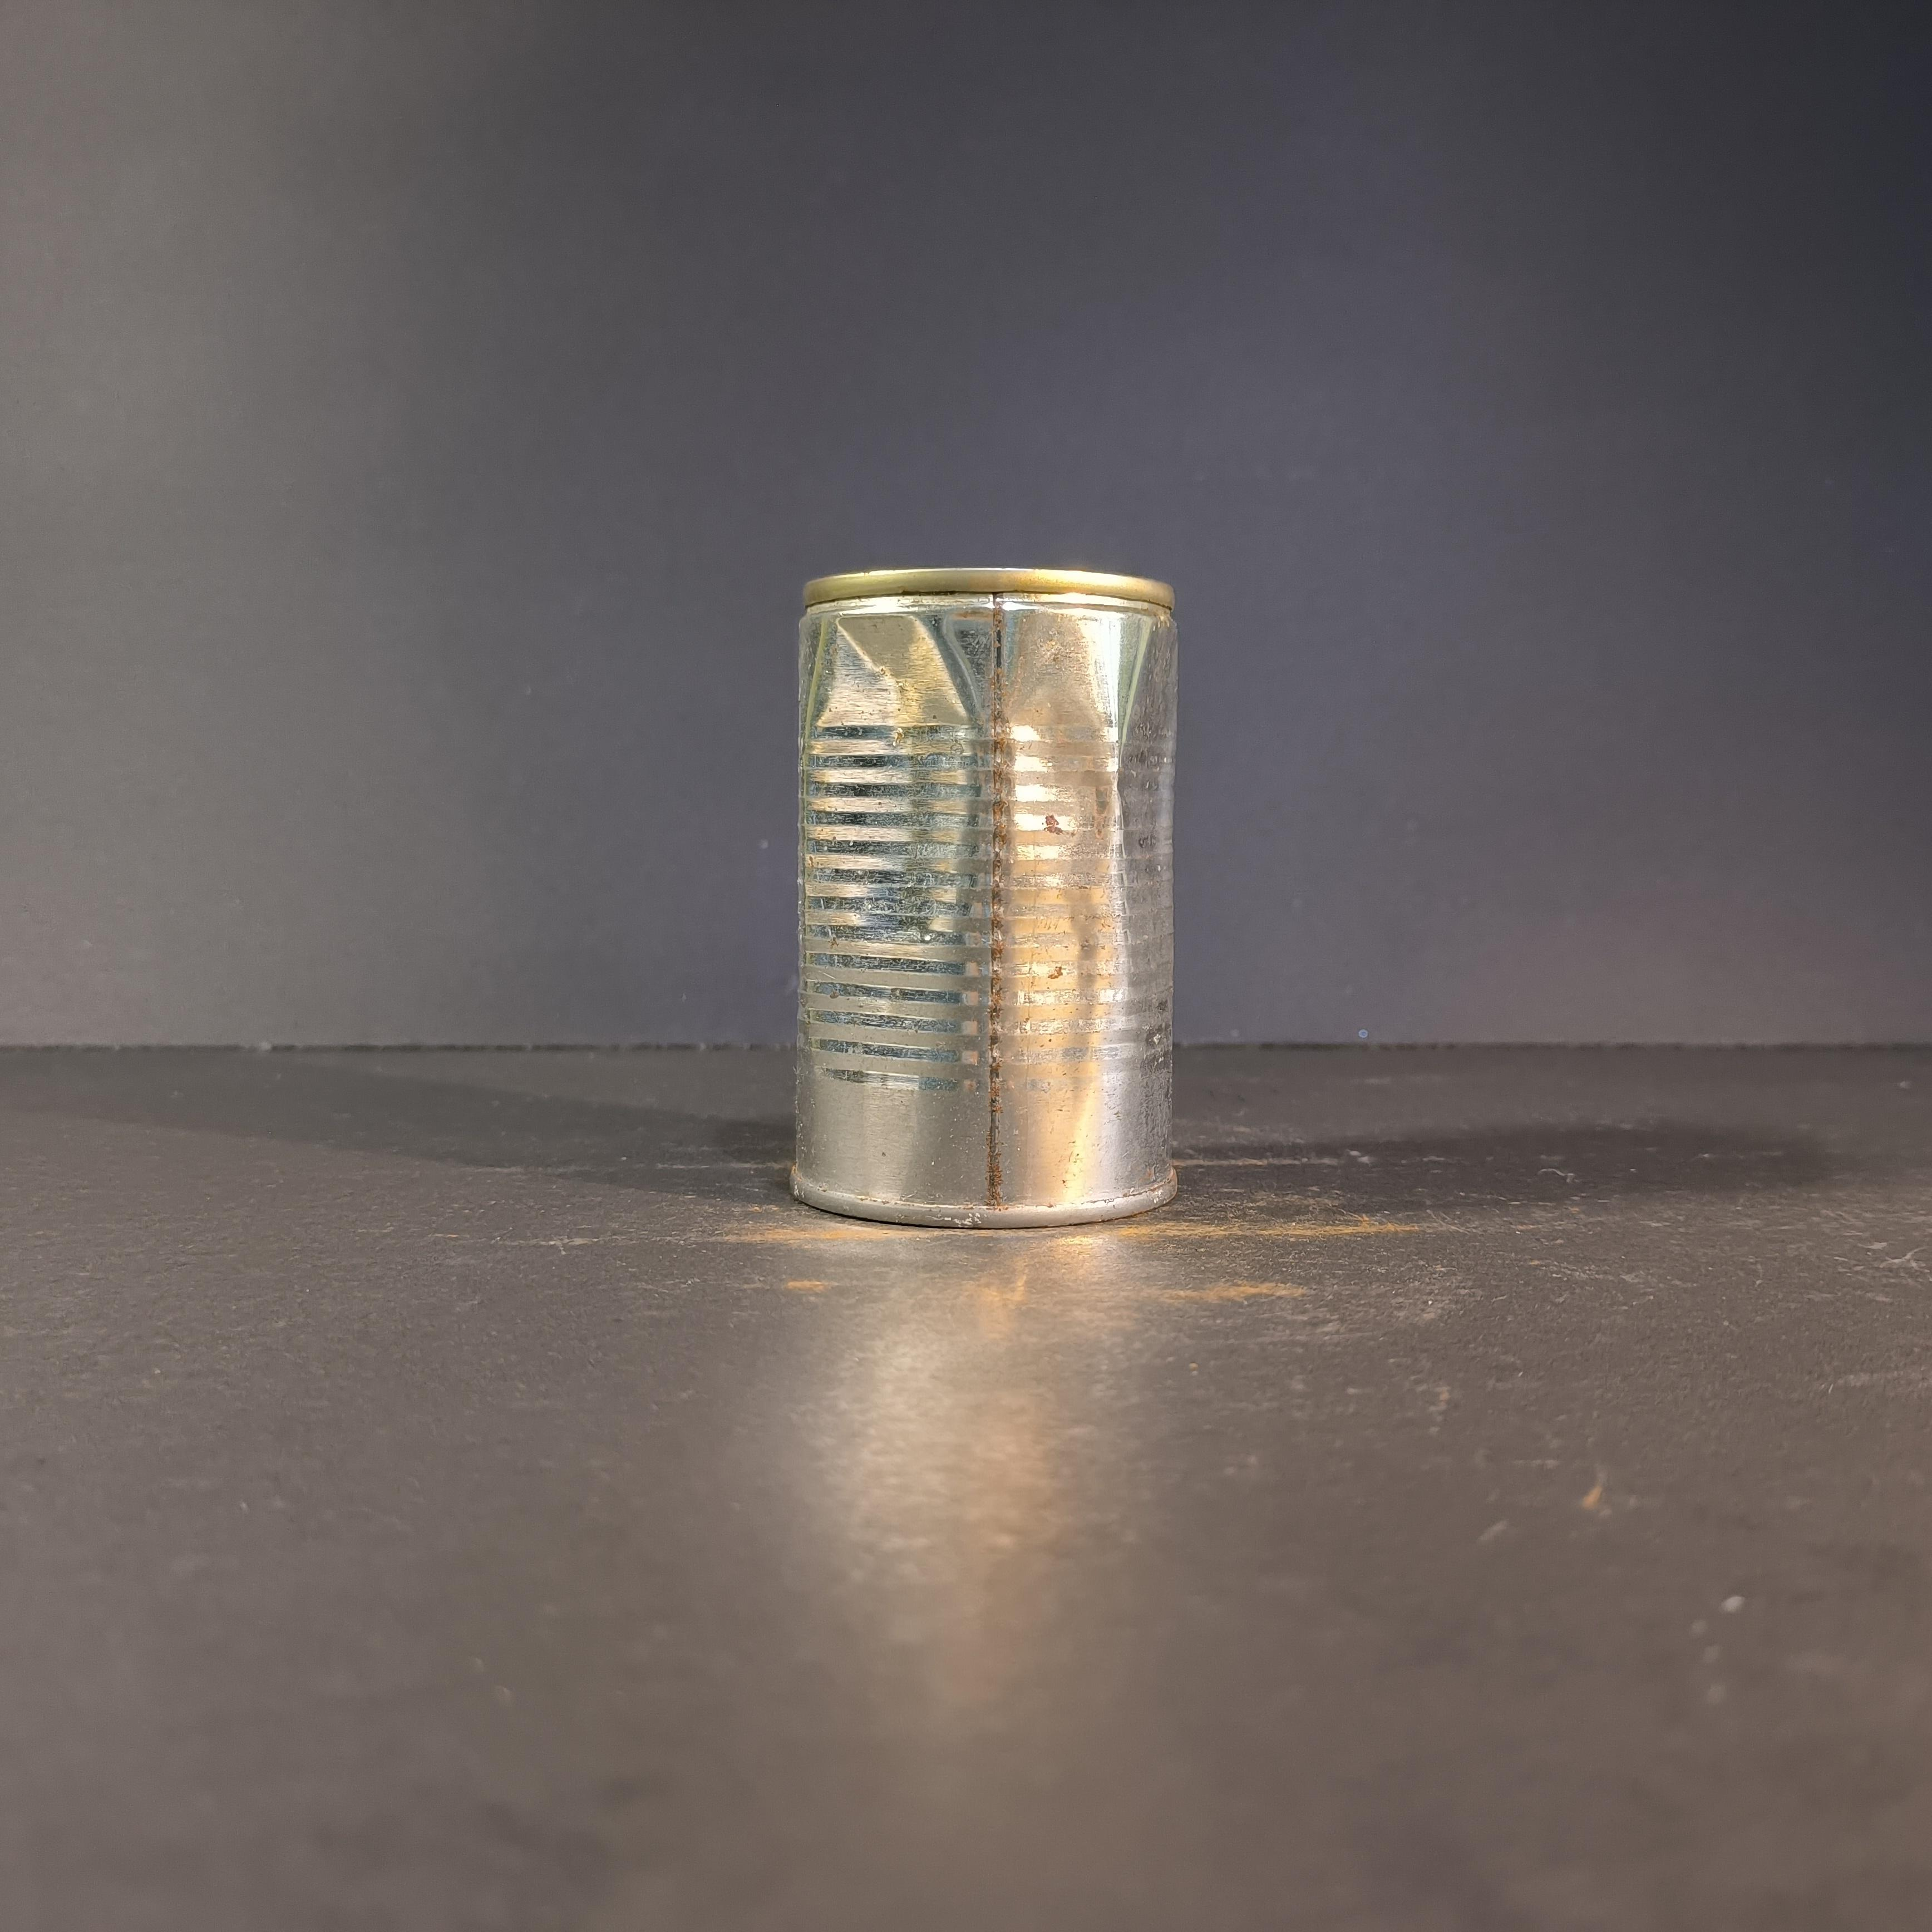Dented: (777, 543, 1214, 1247)
